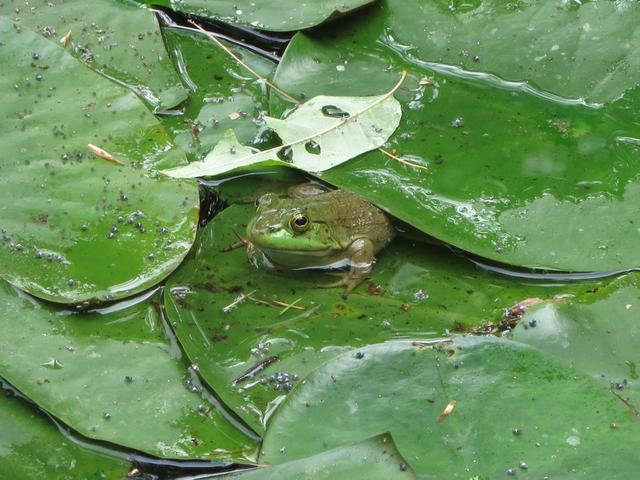frog: (212, 143, 440, 308)
